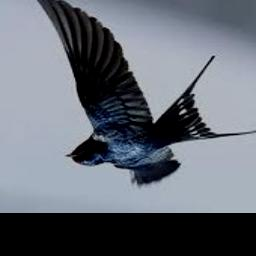Swallow: (27, 0, 256, 188)
